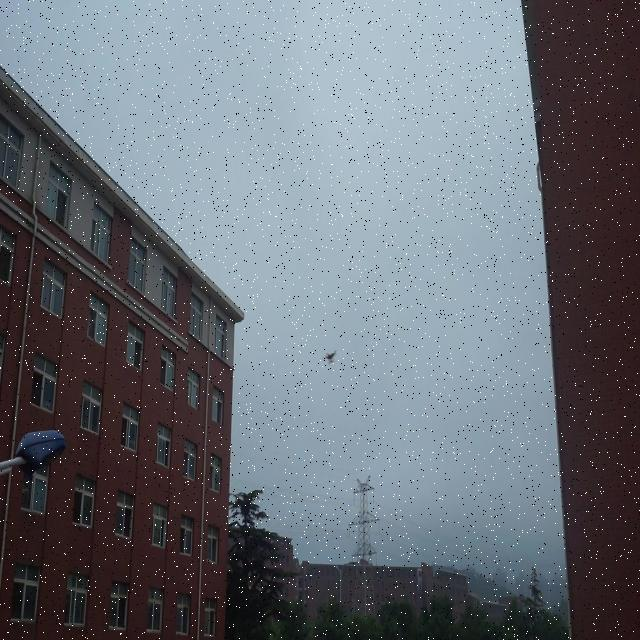UAV: (322, 350, 337, 364)
